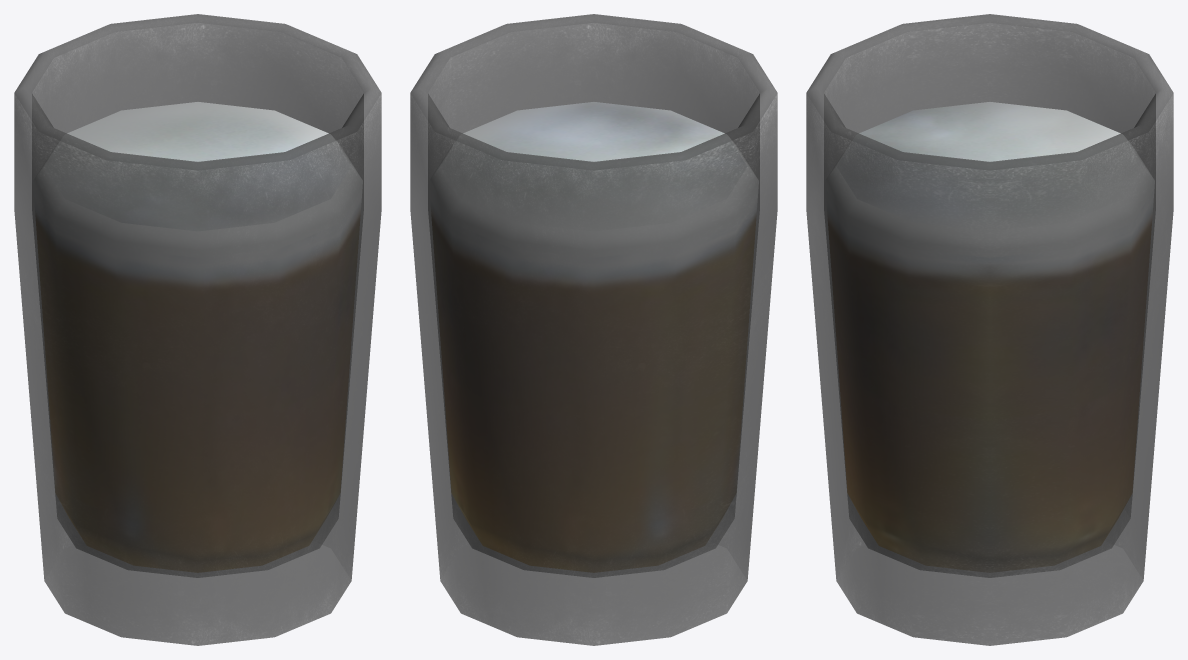
The model's file is sake05a.fbx.
The picture shows the model from 3 angles, left to right: view 1: azimuth 30°, elevation 25°; view 2: azimuth 150°, elevation 25°; view 3: azimuth 270°, elevation 25°; orthographic projection.
Parts seen in each view (by area): view 1: sake05a; view 2: sake05a; view 3: sake05a.
Boxes of the visible parts, box(x1,y1,x2,y2) form: sake05a: box(14, 14, 381, 645); sake05a: box(410, 14, 777, 645); sake05a: box(806, 14, 1173, 645).
Size of the model in its own units: 9.84 by 14.57 by 9.84.
